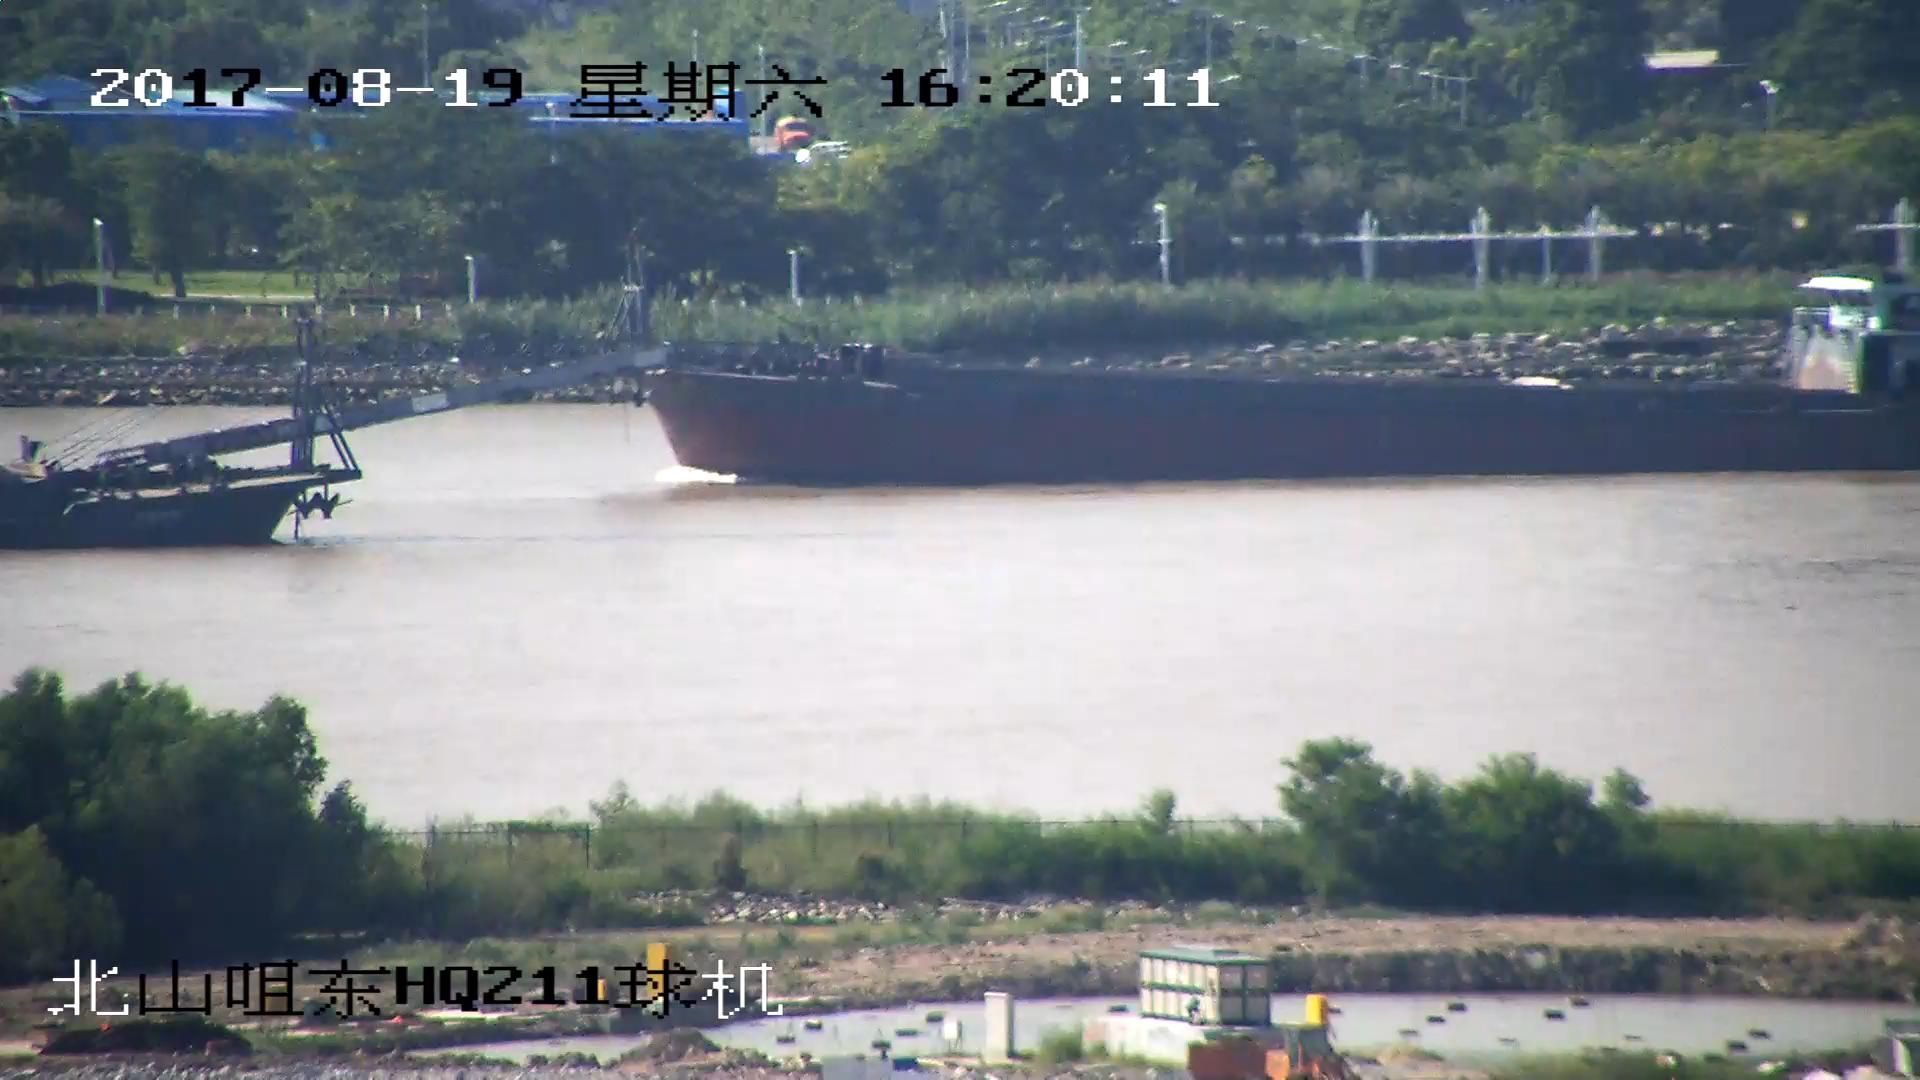bulk cargo carrier: (435, 247, 1919, 492)
ore carrier: (1, 313, 649, 553)
